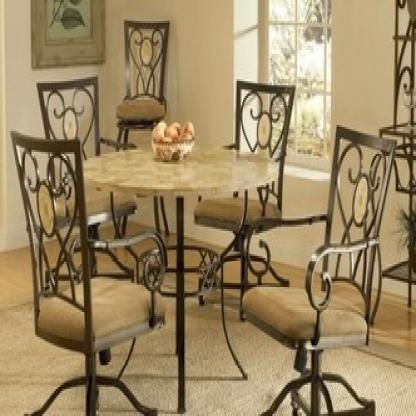chair: (240, 127, 393, 416), (11, 134, 167, 416), (192, 83, 309, 304), (24, 68, 144, 238)
